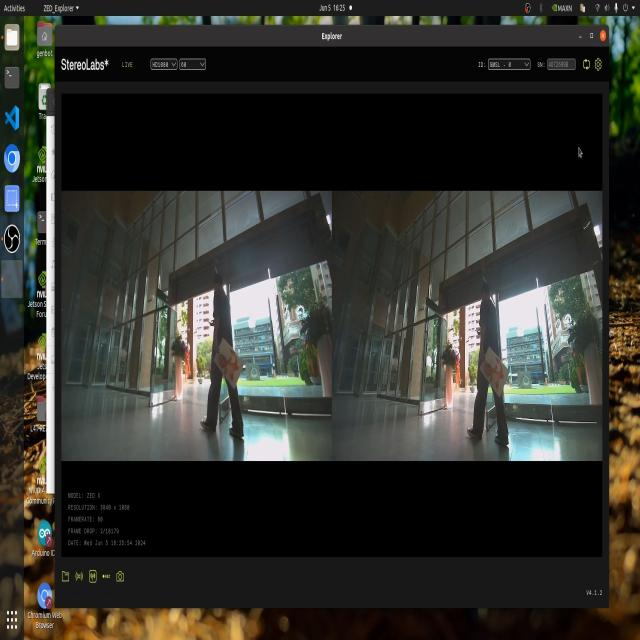red: (218, 346, 240, 391), (490, 363, 507, 392)
